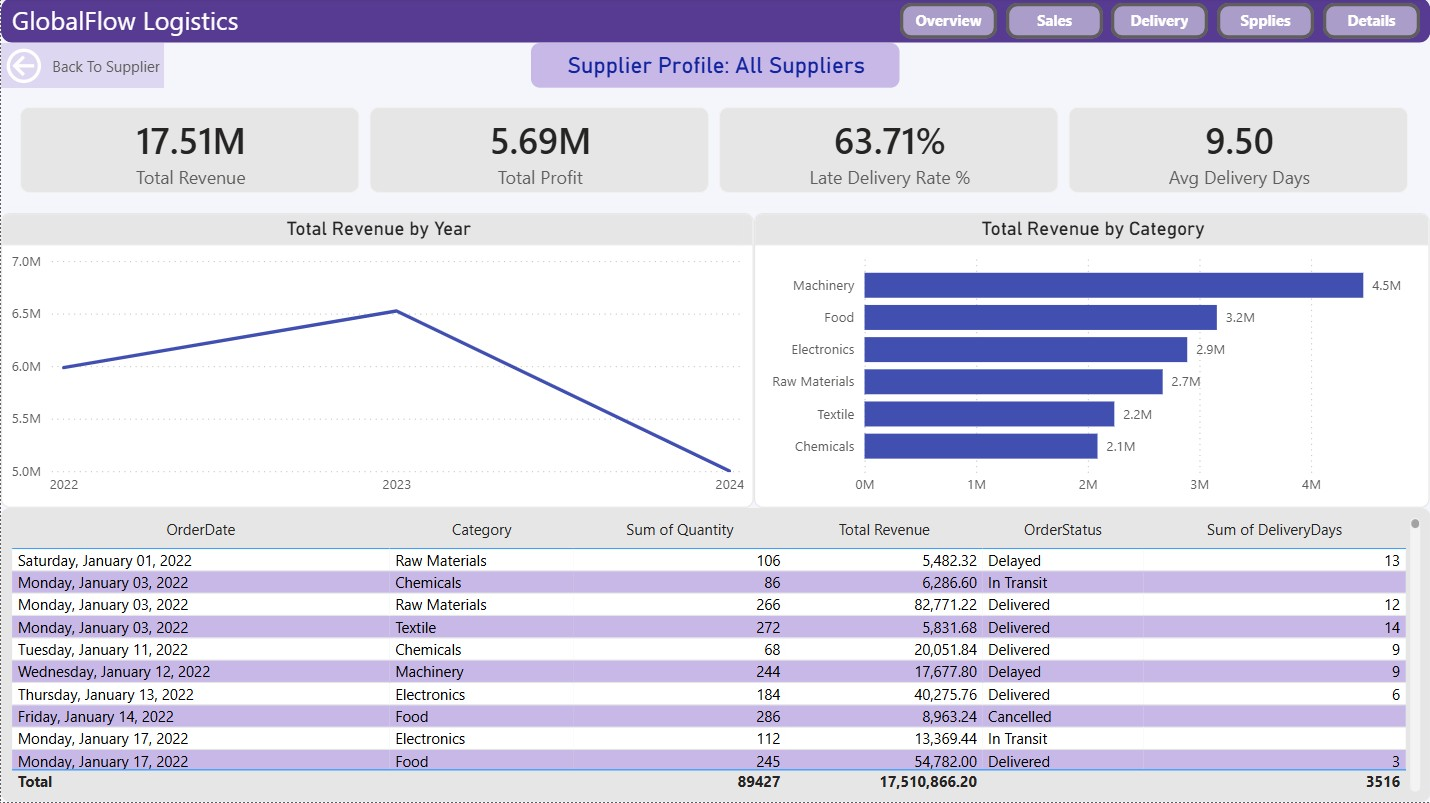

The dashboard page shown, as its layout file describes it:
{"tool":"powerbi","page":{"name":"Supplier Detail","canvas":[1280,720],"ordinal":4},"visuals":[{"type":"shape","title":"GlobalFlow Logistics","box":[0,0,1280,40],"z":0},{"type":"actionButton","box":[805.1,4.4,86.9,31.9],"z":1000},{"type":"actionButton","box":[899.7,4.4,86.9,31.9],"z":2000},{"type":"actionButton","box":[994.3,4.4,86.9,31.9],"z":3000},{"type":"actionButton","box":[1088.9,4.4,86.9,31.9],"z":4000},{"type":"actionButton","box":[1183.7,4.4,86.9,31.9],"z":5000},{"type":"actionButton","box":[0,40,146.4,40.9],"z":6000},{"type":"textbox","box":[475,40,330,40],"z":7000},{"type":"cardVisual","fields":{"Data":["_Measures.Total Revenue","_Measures.Total Profit","_Measures.Late Delivery Rate %","_Measures.Avg Delivery Days"]},"box":[0,80.6,1279.7,111.9],"z":8000},{"type":"lineChart","fields":{"Category":["Calender.Year","Calender.MonthName"],"Y":["_Measures.Total Revenue"]},"box":[0,192.5,674.3,264.2],"z":9000},{"type":"clusteredBarChart","fields":{"Y":["_Measures.Total Revenue"],"Category":["Products.Category"]},"box":[674.3,192.5,605.4,264.2],"z":10000},{"type":"tableEx","fields":{"Values":["Orders.OrderDate","Products.Category","Sum(Orders.Quantity)","_Measures.Total Revenue","Orders.OrderStatus","Sum(Orders.DeliveryDays)"]},"box":[0,456.7,1279.7,263.3],"z":10001}]}

Visuals, with their boxes in screenshot pixels (x1, y1, x2, y2), scaled from the page's 1280x720 canvas onto the 1430x803 screenshot:
"GlobalFlow Logistics" shape: [0,0,1429,45]
actionButton: [899,5,997,40]
actionButton: [1005,5,1102,40]
actionButton: [1111,5,1208,40]
actionButton: [1217,5,1314,40]
actionButton: [1322,5,1419,40]
actionButton: [0,45,164,90]
textbox: [531,45,899,89]
cardVisual - _Measures.Total Revenue x _Measures.Total Profit: [0,90,1429,215]
lineChart - Calender.Year x Calender.MonthName: [0,215,753,509]
clusteredBarChart - _Measures.Total Revenue x Products.Category: [753,215,1429,509]
tableEx - Orders.OrderDate x Products.Category: [0,509,1429,802]
